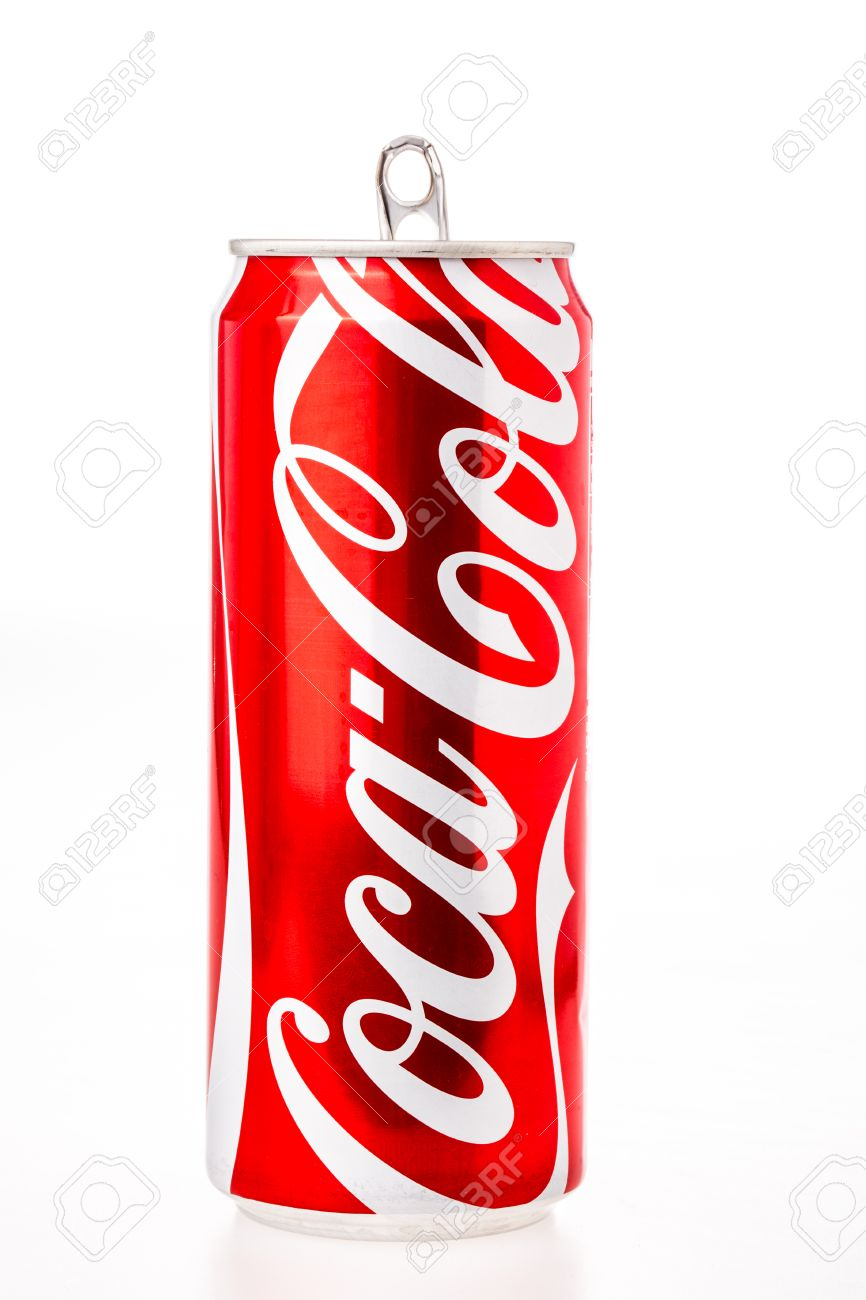coke: (262, 232, 621, 1223)
